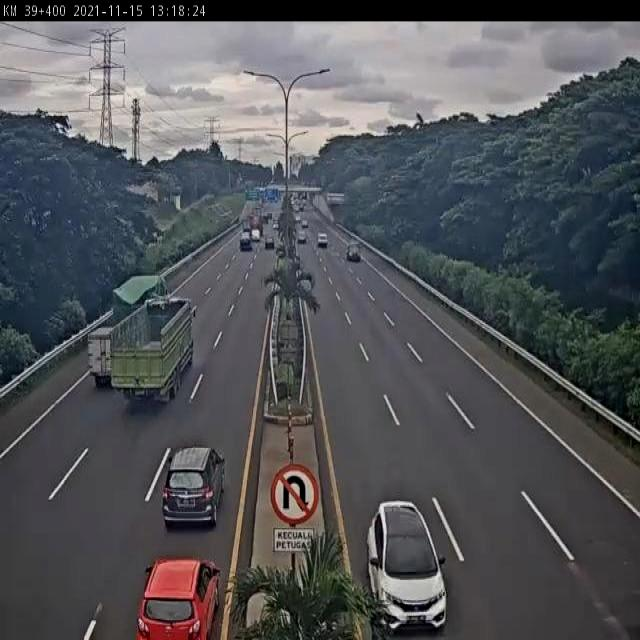Car: (366, 499, 448, 633), (135, 554, 222, 640), (162, 444, 226, 529)
Truck: (108, 296, 198, 409), (111, 273, 170, 322), (238, 230, 252, 250)
